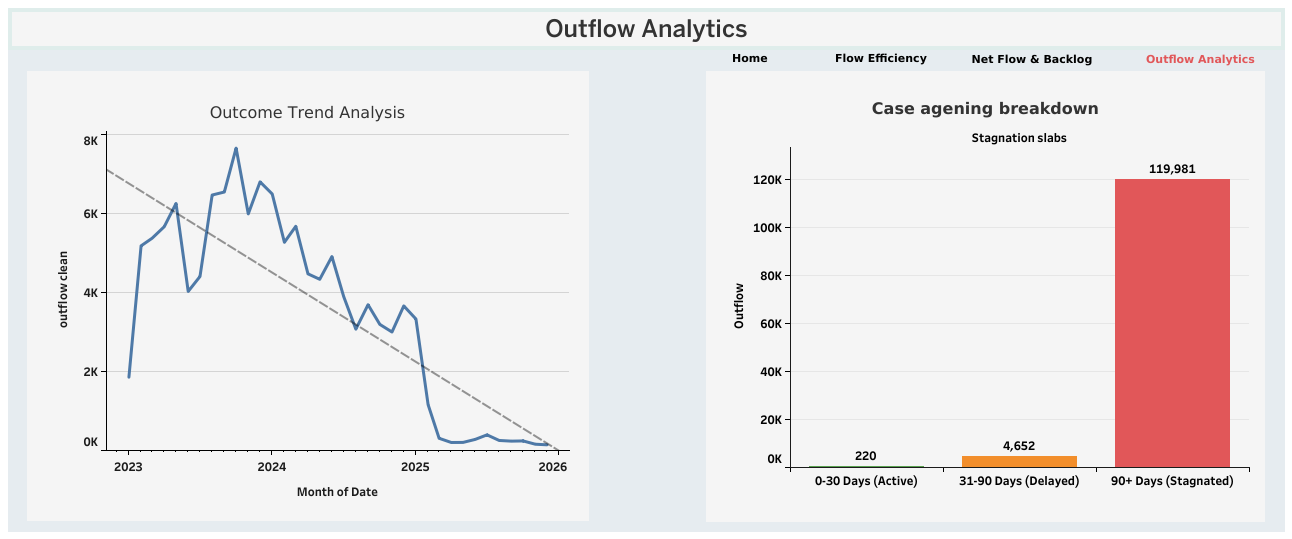

What the dashboard file says about the page in this screenshot:
{"tool":"tableau","page":{"name":"Outflow Analytics","canvas":[1000,1000],"units":"permille","ordinal":3},"visuals":[{"type":"title","box":[6.9,16.5,986.1,86.6]},{"type":"dashboard-object","box":[546.3,88.8,67.5,36.2]},{"type":"dashboard-object","box":[633.8,88.8,95.2,36.2]},{"type":"dashboard-object","box":[741.1,90.6,114.3,34.4]},{"type":"dashboard-object","box":[877.9,90.6,101.3,34.4]},{"type":"worksheet","title":"Case agening breakdown","mark":"Automatic","rows":["Outflow"],"cols":["Calculation_455989464501084167"],"box":[558.4,172.1,407.8,766.3]},{"type":"worksheet","title":"Outcome Trend Analysis","mark":"Automatic","rows":["Calculation_455989465306742795"],"cols":["Date"],"box":[35.5,179.3,404.3,759.1]}]}

Visuals, with their boxes on the dashboard's canvas, which has no fixed pixel size, in thousandths of its width and height (x1, y1, x2, y2). These are canvas units, not pixel positions in the 1292x539 screenshot, which may show the page scaled, cropped or inside an application window:
title: l=7, t=16, r=993, b=103
dashboard-object: l=546, t=89, r=614, b=125
dashboard-object: l=634, t=89, r=729, b=125
dashboard-object: l=741, t=91, r=855, b=125
dashboard-object: l=878, t=91, r=979, b=125
"Case agening breakdown" worksheet: l=558, t=172, r=966, b=938
"Outcome Trend Analysis" worksheet: l=36, t=179, r=440, b=938
